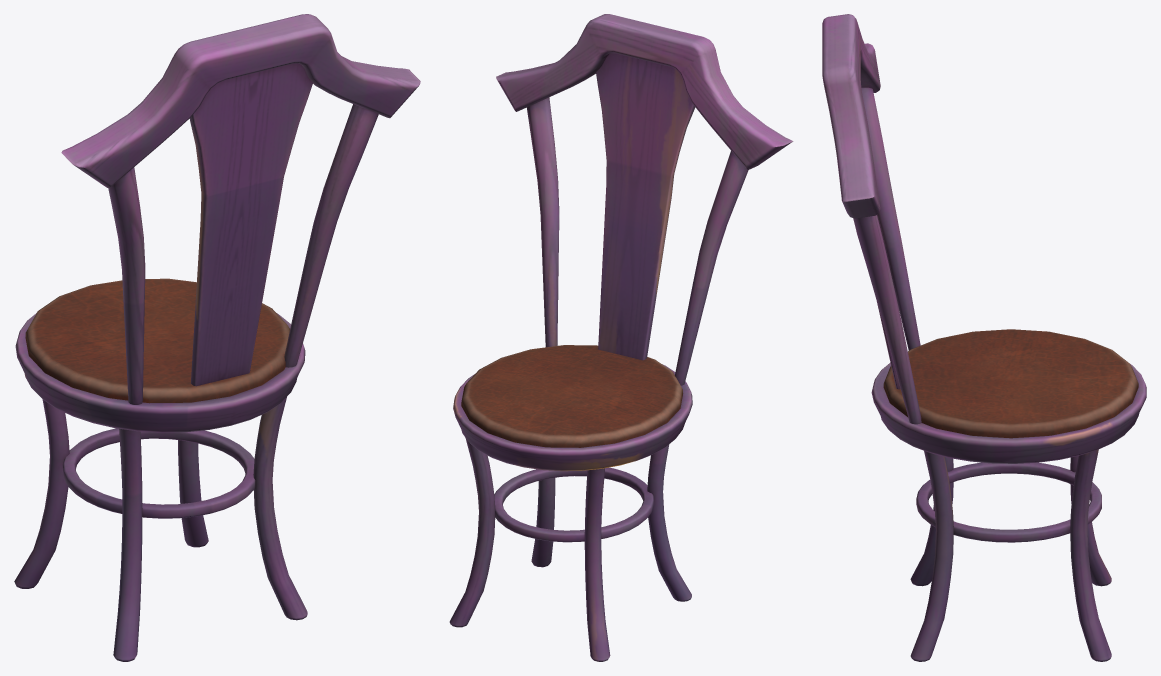
The model's file is SM_WoodenChair03.fbx.
3 views of the same model, side by side, from view 1: azimuth 30°, elevation 25°; view 2: azimuth 150°, elevation 25°; view 3: azimuth 270°, elevation 25° (orthographic). The views are drawn at different scales.
Visible parts, largest first — view 1: SM_WoodenChair03_LOD0; view 2: SM_WoodenChair03_LOD0; view 3: SM_WoodenChair03_LOD0.
Boxes of the visible parts, left/top/right/bottom form: SM_WoodenChair03_LOD0: left=14, top=14, right=420, bottom=661; SM_WoodenChair03_LOD0: left=449, top=14, right=793, bottom=661; SM_WoodenChair03_LOD0: left=822, top=14, right=1146, bottom=661.
Bounding box in the file's own units: 66.04 × 58.8 × 116.
Materials: 1 (1 with a texture image).
